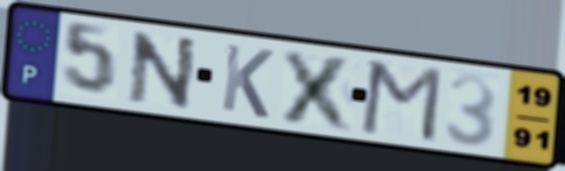3: (442, 70, 501, 149)
5: (62, 18, 122, 103)
K: (217, 40, 277, 122)
M: (356, 58, 446, 146)
N: (126, 29, 201, 113)
X: (276, 46, 360, 135)
